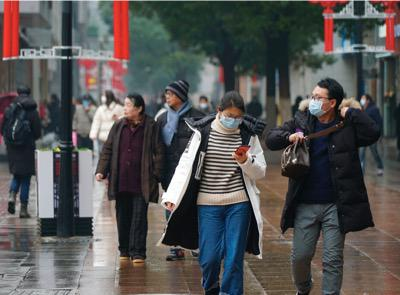with_mask: (308, 92, 327, 118), (219, 112, 242, 130), (198, 99, 208, 111), (100, 92, 109, 105), (80, 97, 89, 108), (359, 96, 366, 108)
without_mask: (121, 100, 137, 120), (164, 90, 179, 108)
